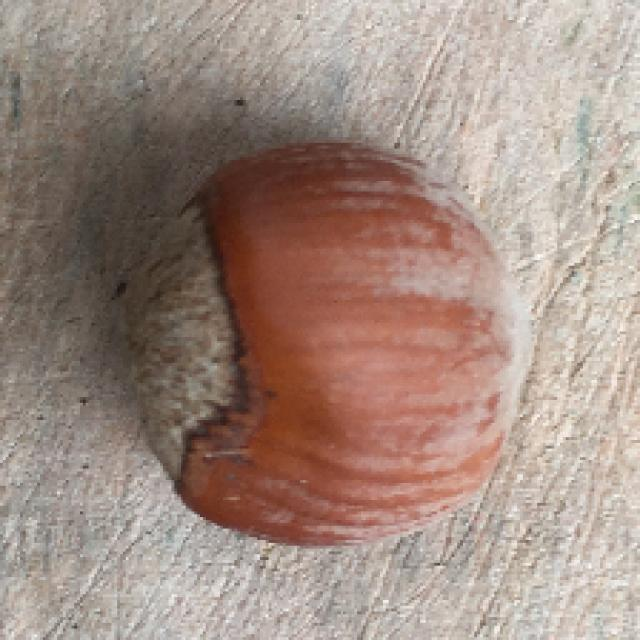qualityHazelnut: (119, 137, 535, 549)
